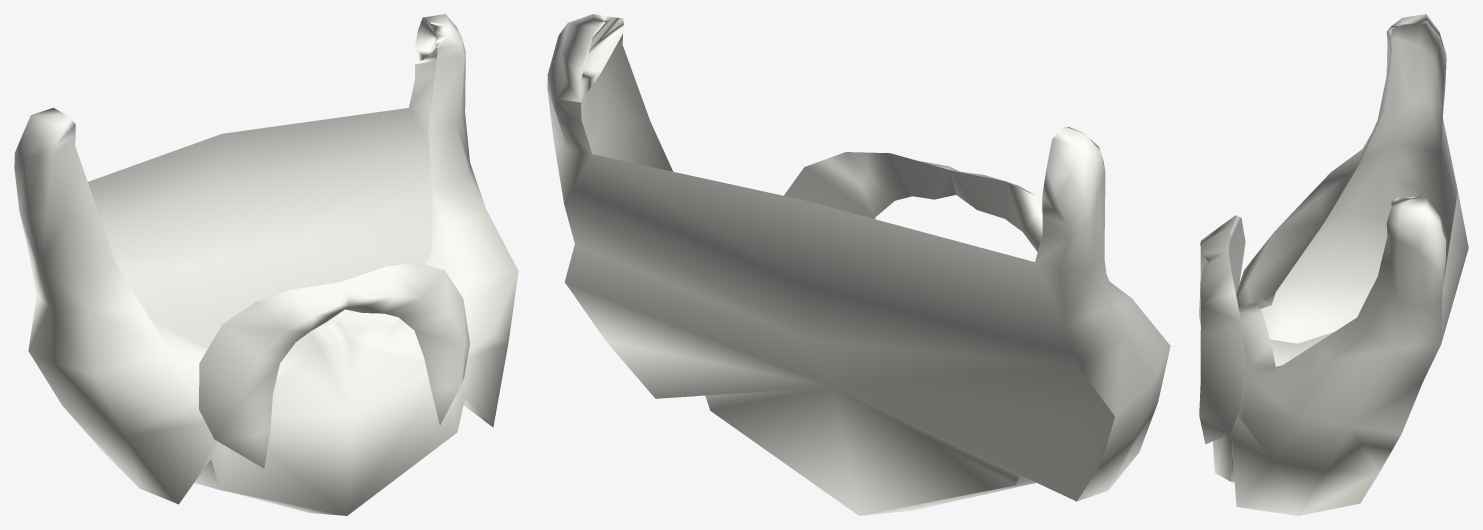
File: Beard_White_13.fbx
3 renders of one model, left to right at view 1: azimuth 30°, elevation 25°; view 2: azimuth 150°, elevation 25°; view 3: azimuth 270°, elevation 25°, orthographic. The views are drawn at different scales.
Parts seen in each view (by area): view 1: Beard_White_13; view 2: Beard_White_13; view 3: Beard_White_13.
Boxes of the visible parts, bbox=[...] form: Beard_White_13: bbox=[14, 14, 518, 515]; Beard_White_13: bbox=[547, 14, 1170, 515]; Beard_White_13: bbox=[1199, 14, 1468, 515].
Bounding box in the file's own units: 54.32 × 45.47 × 28.75.
